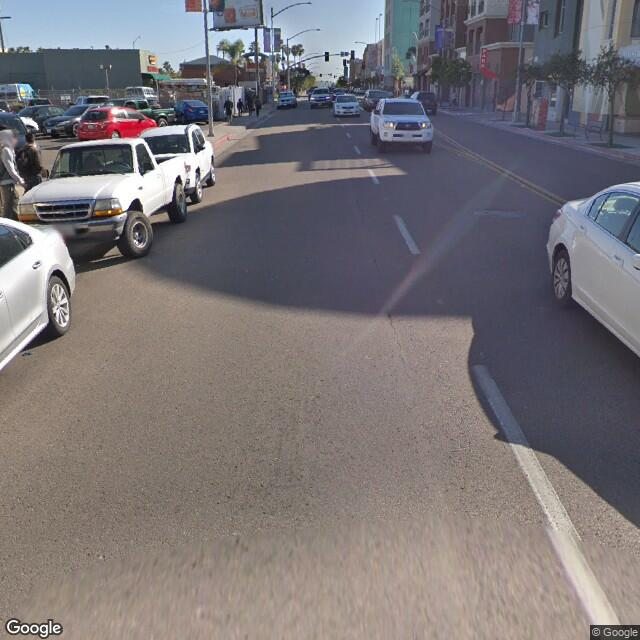road line: (359, 156, 448, 272)
